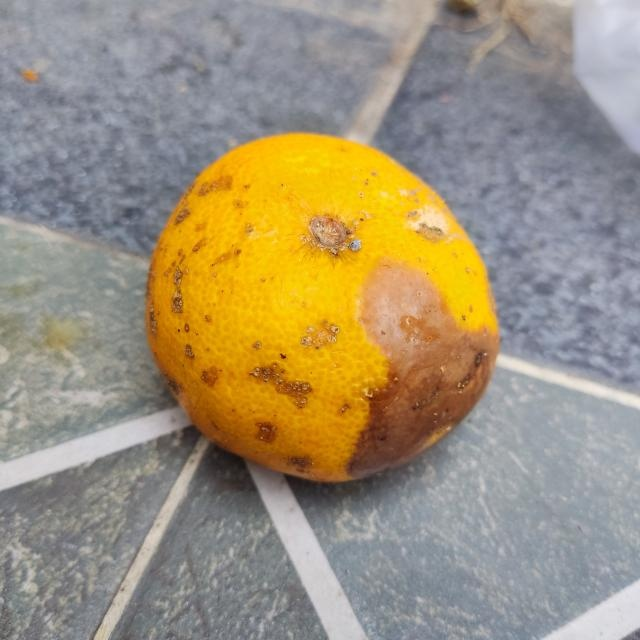agrume: (146, 129, 500, 483)
